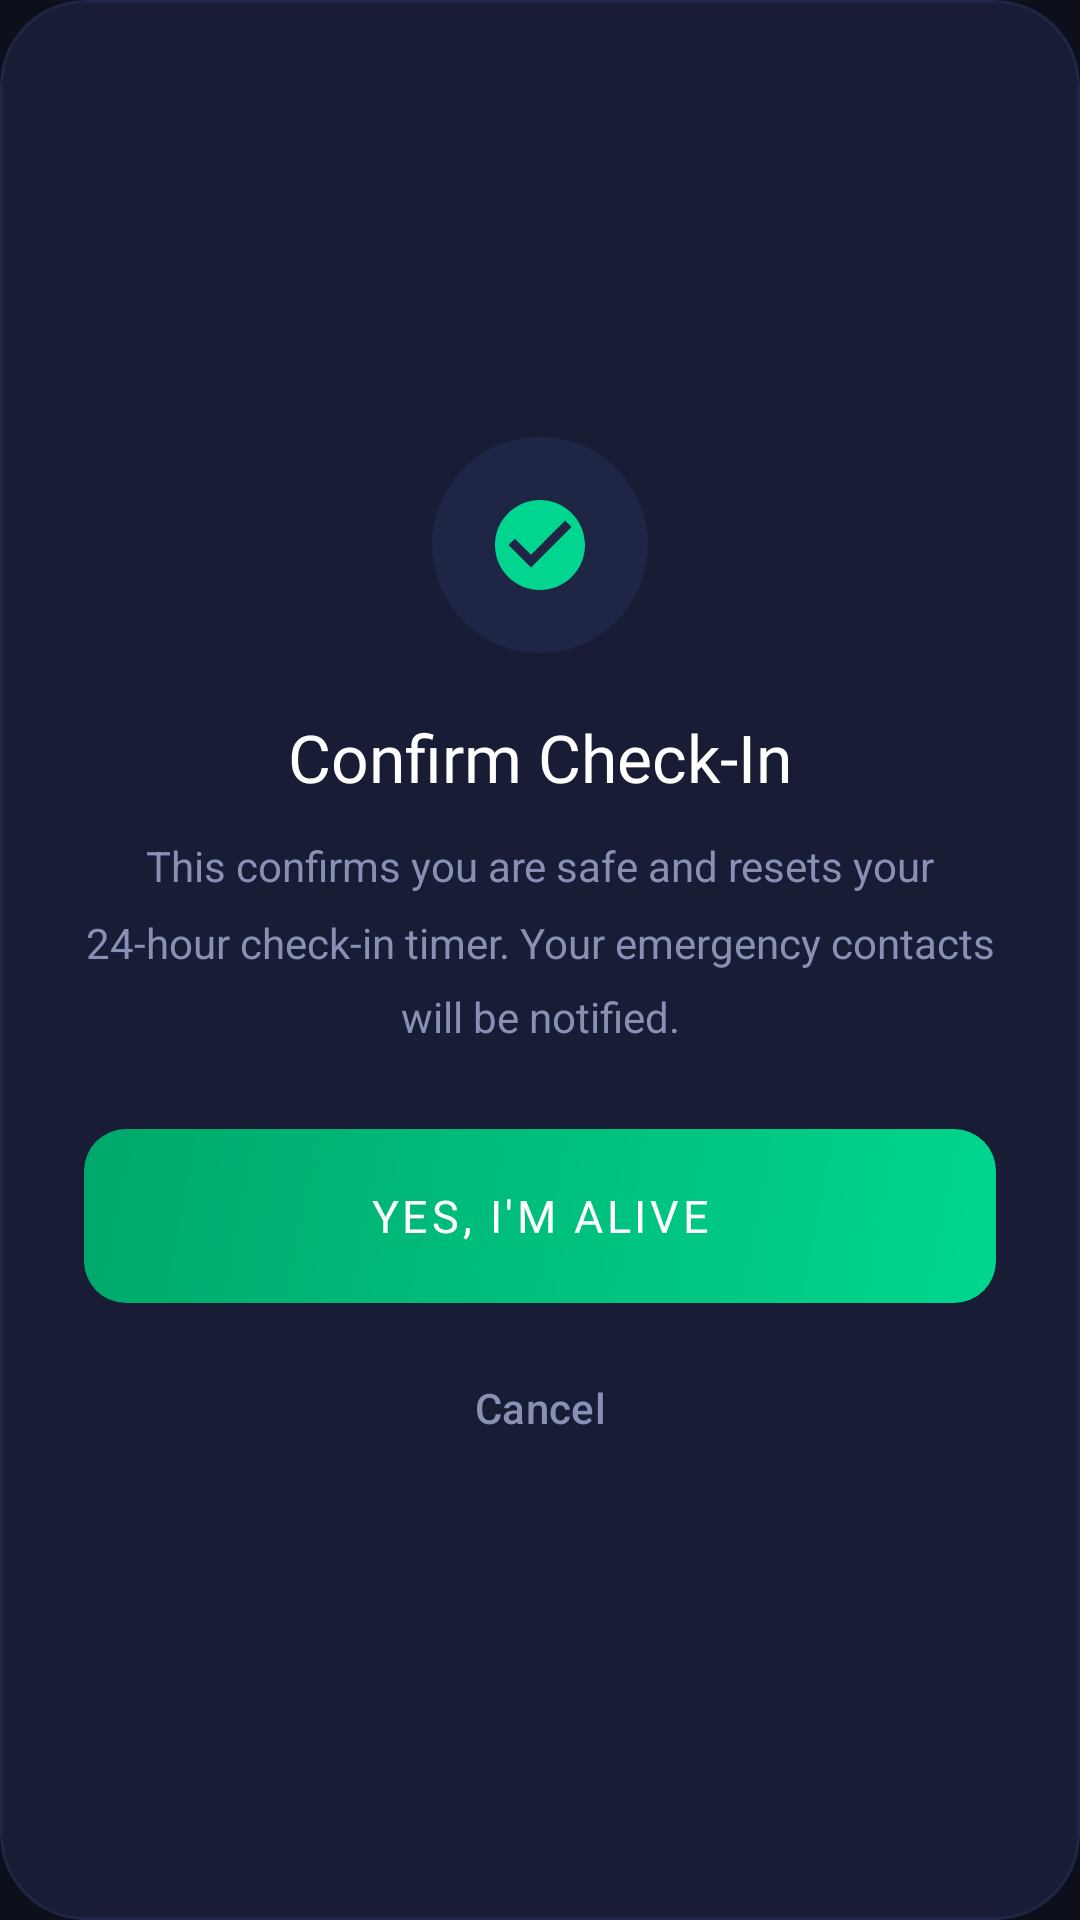

Screen size 1080 x 1920. Icon name, then its box in pixels as {"x1": x1, "y1": y1, "x2": x2, "y2": y2}:
check circle: {"x1": 495, "y1": 500, "x2": 585, "y2": 590}
